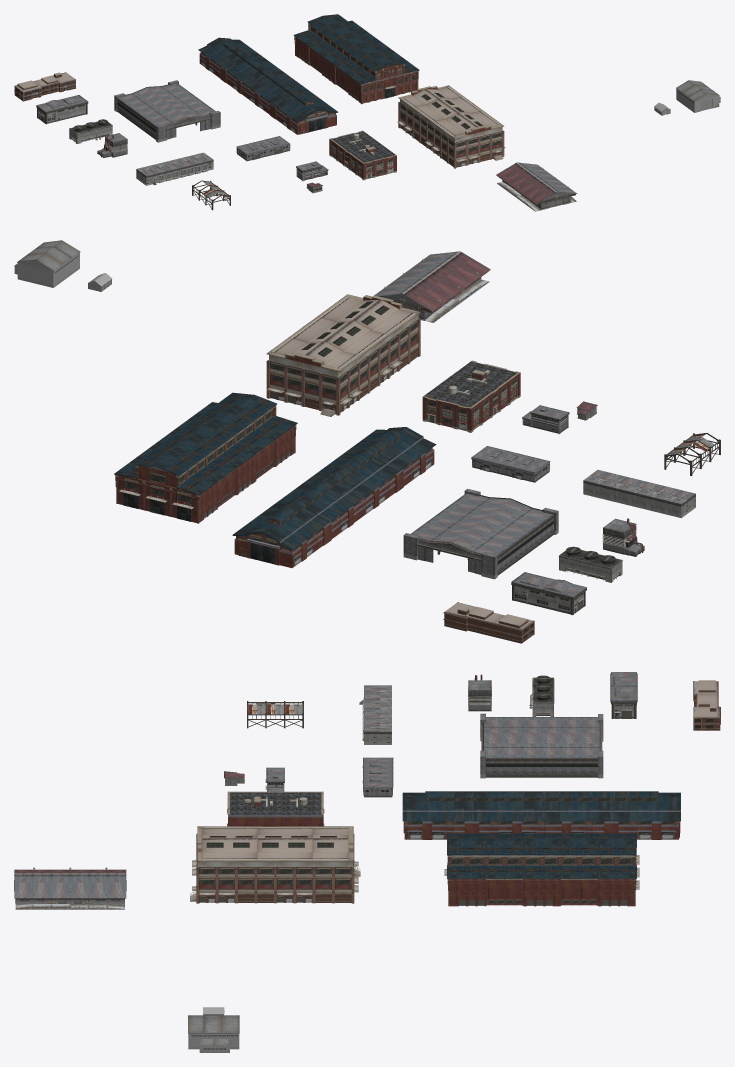
File: b_industrial.glb
The picture shows the model from 3 angles, top to bottom: view 1: azimuth 30°, elevation 25°; view 2: azimuth 150°, elevation 25°; view 3: azimuth 270°, elevation 25°; orthographic projection. The views are drawn at different scales.
Visible parts, largest first — view 1: Industrial_Building_10_Material #2_0, Industrial_FactoryPlant_2_Industrial_Walls_FLR_2_Dif_0, Industrial_Hangar_2_Industrial_Walls_FLR_1_0, Industrial_FactoryPlant_1_Industrial_Walls_FLR_2_0, Industrial_FactoryPlant_1_Industrial_Facade_Flr_1_0, Industrial_FactoryPlant_2_Industrial_Facade_Flr_1_0, Industrial_Warehouse_5_Industrial_Walls_FLR_1_0, Industrial_Building_1_Industrial_Facade_Flr_1_0, Industrial_LogisticTerminal_1_Industrial_Walls_FLR_1_0, Industrial_Warehouse_4_Industrial_Facade_Flr_1_0, Industrial_Warehouse_1_Industrial_Walls_FLR_1_0, Industrial_Building_1_Industrial_Roof_1_0 (+9 smaller); view 2: Industrial_Building_10_Material #2_0, Industrial_FactoryPlant_2_Industrial_Walls_FLR_2_Dif_0, Industrial_FactoryPlant_1_Industrial_Walls_FLR_2_0, Industrial_Hangar_2_Industrial_Walls_FLR_1_0, Industrial_FactoryPlant_1_Industrial_Facade_Flr_1_0, Industrial_FactoryPlant_2_Industrial_Facade_Flr_1_0, Industrial_Warehouse_5_Industrial_Walls_FLR_1_0, Industrial_Building_1_Industrial_Facade_Flr_1_0, Industrial_LogisticTerminal_1_Industrial_Walls_FLR_1_0, Industrial_Warehouse_4_Industrial_Facade_Flr_1_0, Industrial_Warehouse_1_Industrial_Walls_FLR_1_0, Industrial_Building_1_Industrial_Roof_1_0 (+8 smaller); view 3: Industrial_Building_10_Material #2_0, Industrial_FactoryPlant_2_Industrial_Walls_FLR_2_Dif_0, Industrial_FactoryPlant_1_Industrial_Facade_Flr_1_0, Industrial_Hangar_2_Industrial_Walls_FLR_1_0, Industrial_FactoryPlant_1_Industrial_Walls_FLR_2_0, Industrial_FactoryPlant_2_Industrial_Facade_Flr_1_0, Industrial_Warehouse_5_Industrial_Walls_FLR_1_0, Industrial_Building_1_Industrial_Roof_1_0, Industrial_Building_1_Industrial_Facade_Flr_1_0, Industrial_LogisticTerminal_1_Industrial_Walls_FLR_1_0, Industrial_Warehouse_4_Industrial_Facade_Flr_1_0, Industrial_Warehouse_3_Industrial_Trim_FLR_1_0 (+7 smaller).
Part boxes in pixels (x1,y1,x2,y2): Industrial_Building_10_Material #2_0: (397, 85, 505, 168); Industrial_FactoryPlant_2_Industrial_Walls_FLR_2_Dif_0: (198, 37, 338, 132); Industrial_Hangar_2_Industrial_Walls_FLR_1_0: (114, 80, 220, 142); Industrial_FactoryPlant_1_Industrial_Walls_FLR_2_0: (293, 14, 419, 98); Industrial_FactoryPlant_1_Industrial_Facade_Flr_1_0: (294, 23, 418, 104); Industrial_FactoryPlant_2_Industrial_Facade_Flr_1_0: (199, 44, 336, 134); Industrial_Warehouse_5_Industrial_Walls_FLR_1_0: (496, 162, 577, 209); Industrial_Building_1_Industrial_Facade_Flr_1_0: (329, 130, 396, 180); Industrial_LogisticTerminal_1_Industrial_Walls_FLR_1_0: (136, 152, 213, 185); Industrial_Warehouse_4_Industrial_Facade_Flr_1_0: (14, 72, 75, 101); Industrial_Warehouse_1_Industrial_Walls_FLR_1_0: (36, 95, 88, 124); Industrial_Building_1_Industrial_Roof_1_0: (332, 131, 395, 162); Industrial_Building_10_Material #2_0: (266, 294, 420, 416); Industrial_FactoryPlant_2_Industrial_Walls_FLR_2_Dif_0: (232, 427, 436, 564); Industrial_FactoryPlant_1_Industrial_Walls_FLR_2_0: (114, 392, 297, 521); Industrial_Hangar_2_Industrial_Walls_FLR_1_0: (403, 488, 558, 579); Industrial_FactoryPlant_1_Industrial_Facade_Flr_1_0: (115, 405, 296, 523); Industrial_FactoryPlant_2_Industrial_Facade_Flr_1_0: (234, 436, 434, 567); Industrial_Warehouse_5_Industrial_Walls_FLR_1_0: (373, 251, 490, 319); Industrial_Building_1_Industrial_Facade_Flr_1_0: (422, 360, 520, 432); Industrial_LogisticTerminal_1_Industrial_Walls_FLR_1_0: (583, 470, 695, 518); Industrial_Warehouse_4_Industrial_Facade_Flr_1_0: (443, 602, 534, 643); Industrial_Warehouse_1_Industrial_Walls_FLR_1_0: (511, 572, 586, 615); Industrial_Building_1_Industrial_Roof_1_0: (424, 361, 517, 407); Industrial_Building_10_Material #2_0: (190, 826, 360, 903); Industrial_FactoryPlant_2_Industrial_Walls_FLR_2_Dif_0: (402, 791, 680, 821); Industrial_FactoryPlant_1_Industrial_Facade_Flr_1_0: (444, 855, 639, 906); Industrial_Hangar_2_Industrial_Walls_FLR_1_0: (480, 713, 603, 778); Industrial_FactoryPlant_1_Industrial_Walls_FLR_2_0: (447, 833, 636, 878); Industrial_FactoryPlant_2_Industrial_Facade_Flr_1_0: (402, 797, 680, 839); Industrial_Warehouse_5_Industrial_Walls_FLR_1_0: (14, 867, 126, 907); Industrial_Building_1_Industrial_Roof_1_0: (230, 792, 321, 814); Industrial_Building_1_Industrial_Facade_Flr_1_0: (227, 791, 324, 826); Industrial_LogisticTerminal_1_Industrial_Walls_FLR_1_0: (364, 685, 391, 744); Industrial_Warehouse_4_Industrial_Facade_Flr_1_0: (693, 680, 720, 730); Industrial_Warehouse_3_Industrial_Trim_FLR_1_0: (188, 1015, 239, 1050).
Size of the model in its own units: 419 by 26.05 by 345.
8 materials, 8 textured.
